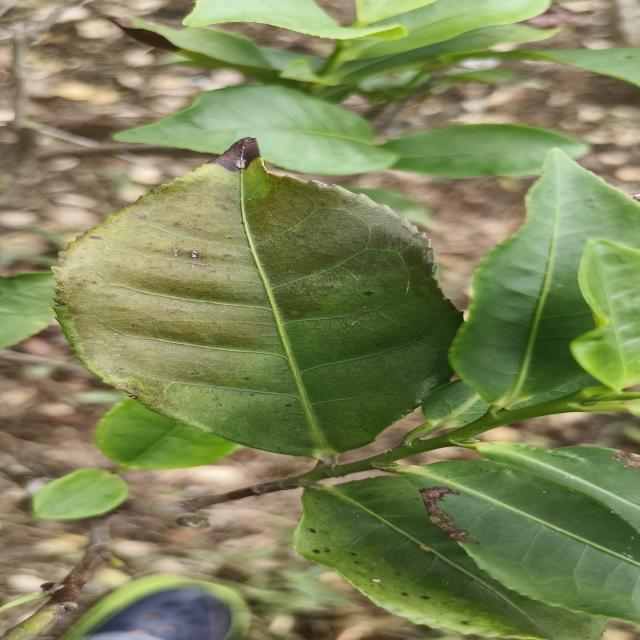Leaf: (56, 139, 461, 459), (294, 477, 596, 640), (450, 151, 640, 407), (400, 462, 640, 624), (114, 85, 397, 175), (479, 442, 640, 531), (341, 0, 550, 63), (382, 124, 588, 178), (95, 397, 239, 471), (571, 239, 640, 391), (183, 0, 407, 40), (116, 18, 275, 70), (502, 48, 640, 86), (33, 468, 128, 519), (0, 272, 55, 349)
